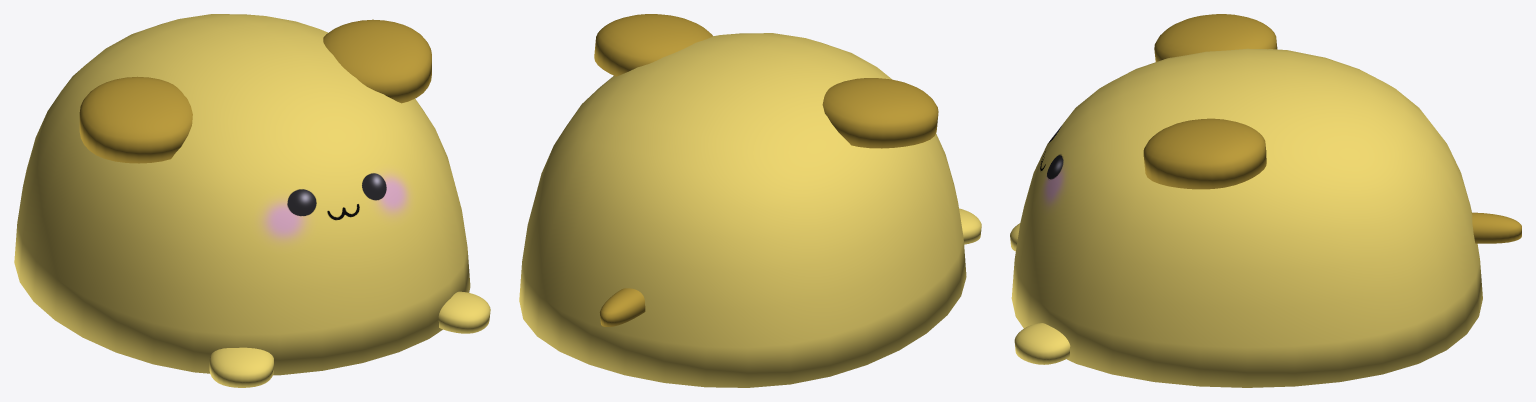
File: player.fbx
The picture shows the model from 3 angles, left to right: view 1: azimuth 30°, elevation 25°; view 2: azimuth 150°, elevation 25°; view 3: azimuth 270°, elevation 25°; orthographic projection. The views are drawn at different scales.
Parts seen in each view (by area): view 1: Cube.002, Cube.001, Cube.005, Cube.004, Cube.007; view 2: Cube.002, Cube.001, Cube.005, Cube.006, Cube.004; view 3: Cube.002, Cube.005, Cube.001, Cube.007, Cube.006.
Part boxes in pixels (x1,y1,x2,y2): Cube.002: [14, 14, 470, 375]; Cube.001: [79, 76, 192, 163]; Cube.005: [323, 19, 431, 103]; Cube.004: [209, 347, 273, 387]; Cube.007: [438, 291, 490, 333]; Cube.002: [519, 33, 966, 387]; Cube.001: [822, 78, 938, 148]; Cube.005: [594, 14, 712, 76]; Cube.006: [599, 288, 645, 326]; Cube.004: [959, 208, 981, 244]; Cube.002: [1011, 48, 1482, 387]; Cube.005: [1143, 118, 1266, 189]; Cube.001: [1154, 14, 1277, 61]; Cube.007: [1014, 323, 1070, 364]; Cube.006: [1472, 212, 1521, 243].
Size of the model in its own units: 277 by 163 by 335.
3 materials, 1 textured.
